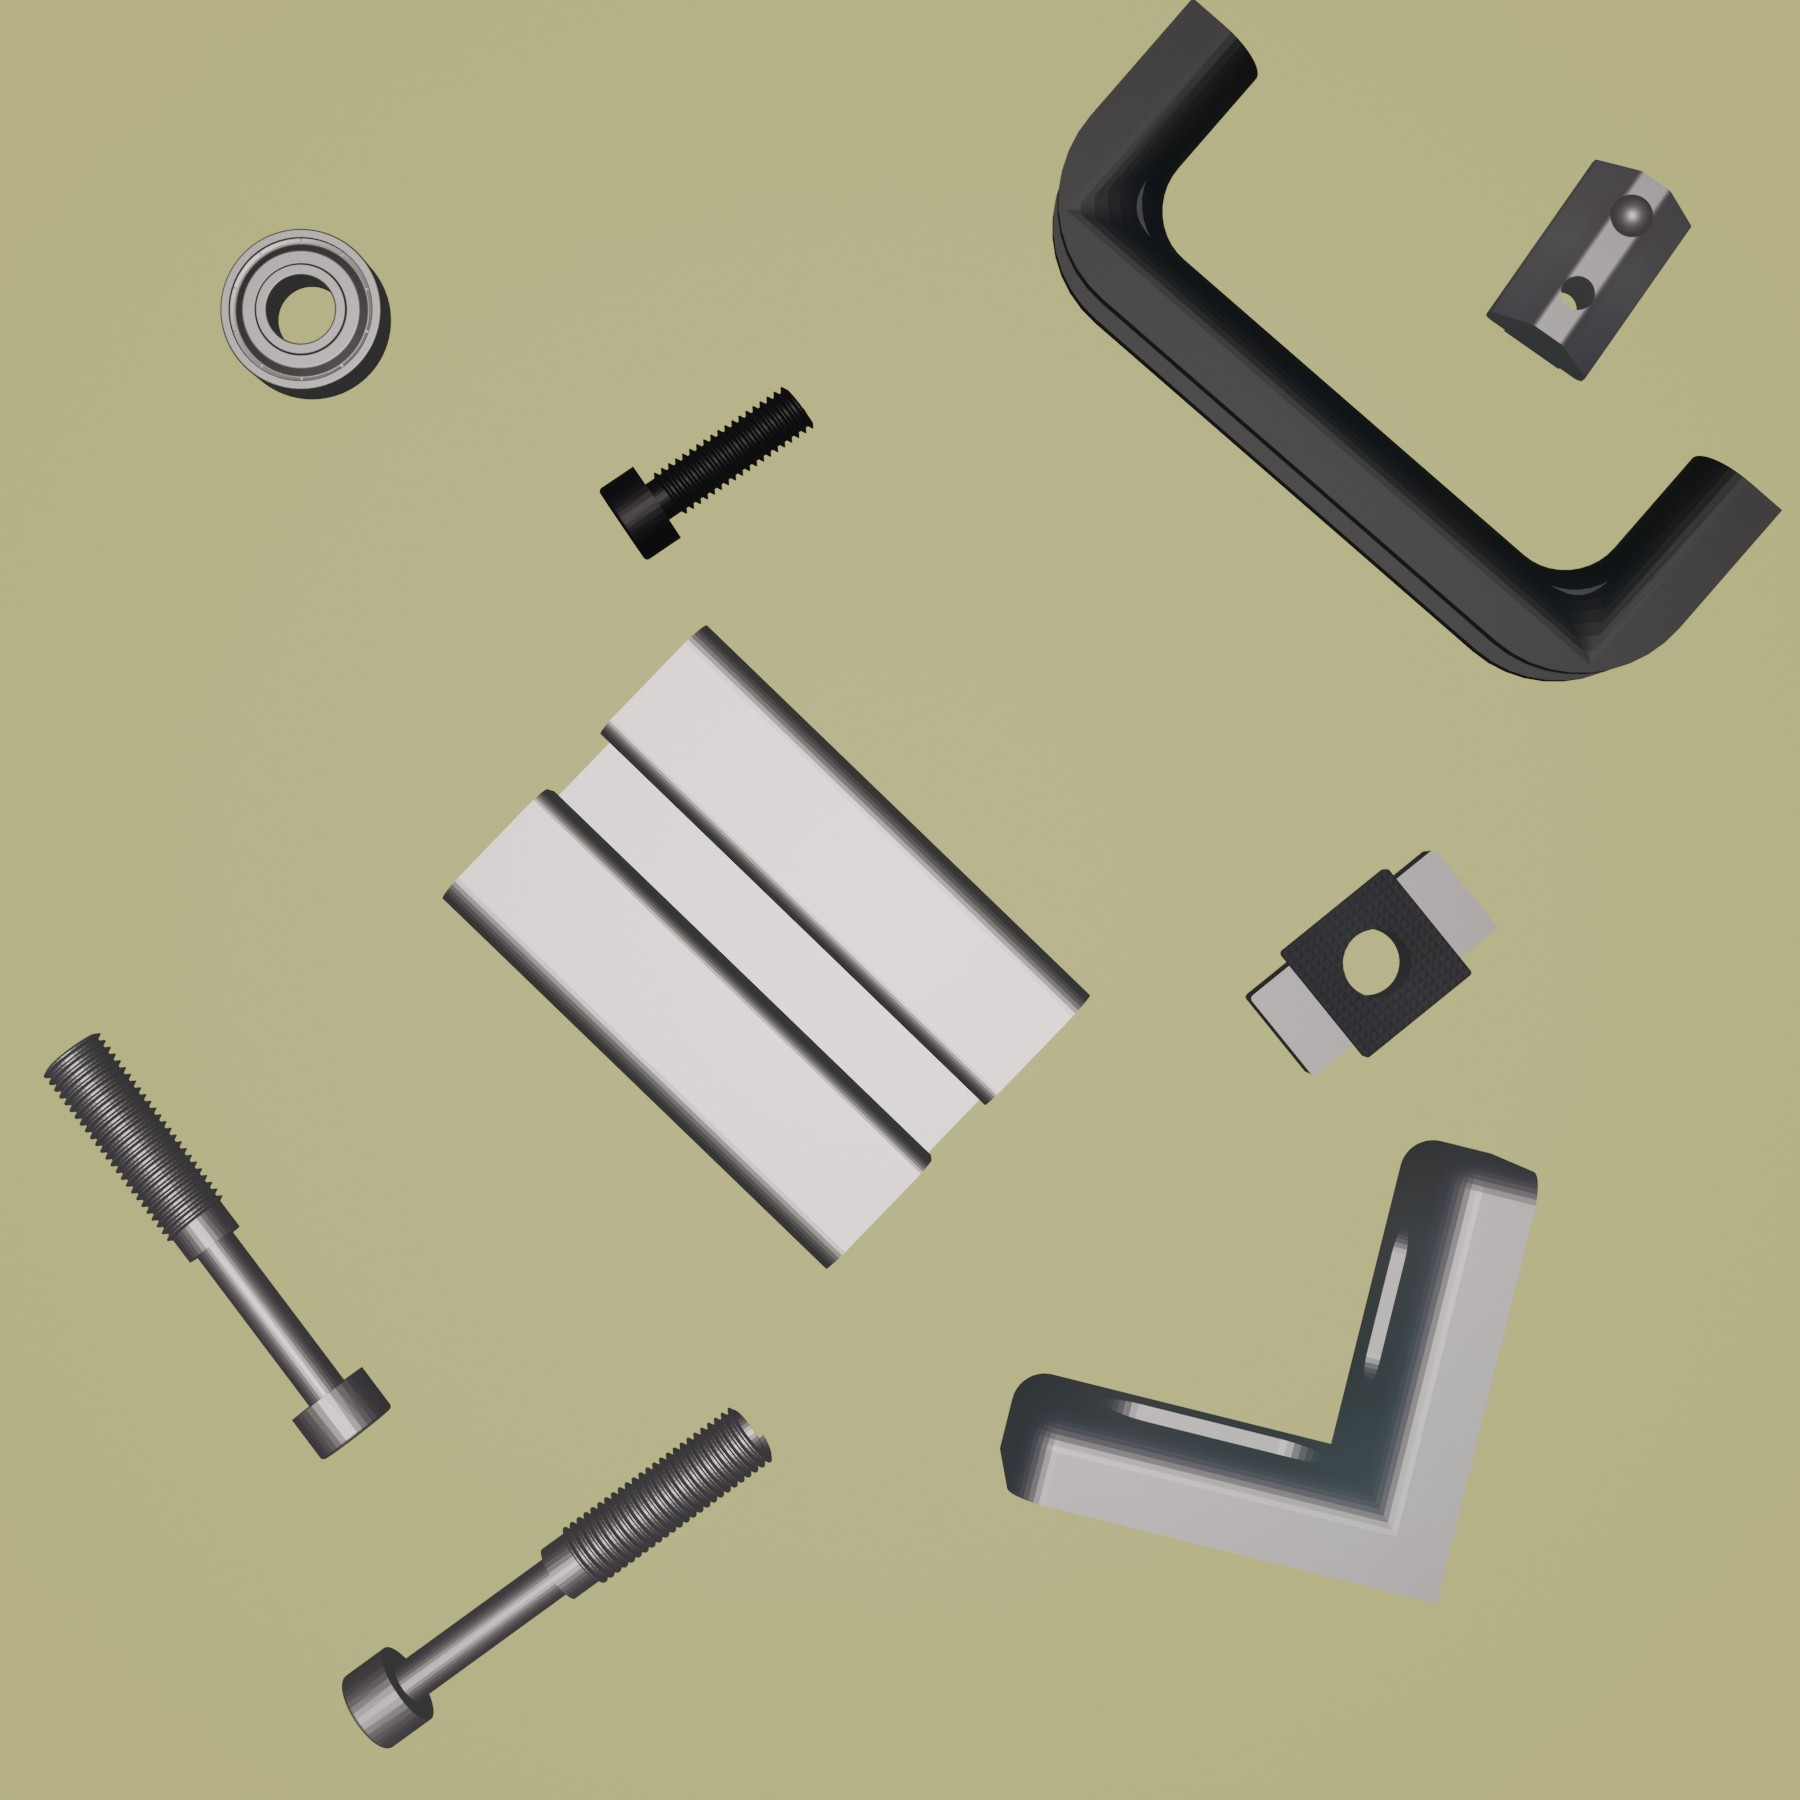Aluminium Extension: (440, 620, 1091, 1274)
Ball Bearing: (219, 227, 394, 401)
Multiwinkel: (997, 1137, 1541, 1605)
Pull Handle: (1052, 2, 1785, 686)
Shoulder Socket Head Cap Screw: (40, 1030, 391, 1459), (340, 1408, 773, 1751)
Socket Head Cap Screw: (598, 386, 818, 562)
T Nut Square: (1245, 847, 1502, 1080)
T Spring Nut: (1487, 155, 1693, 386)
